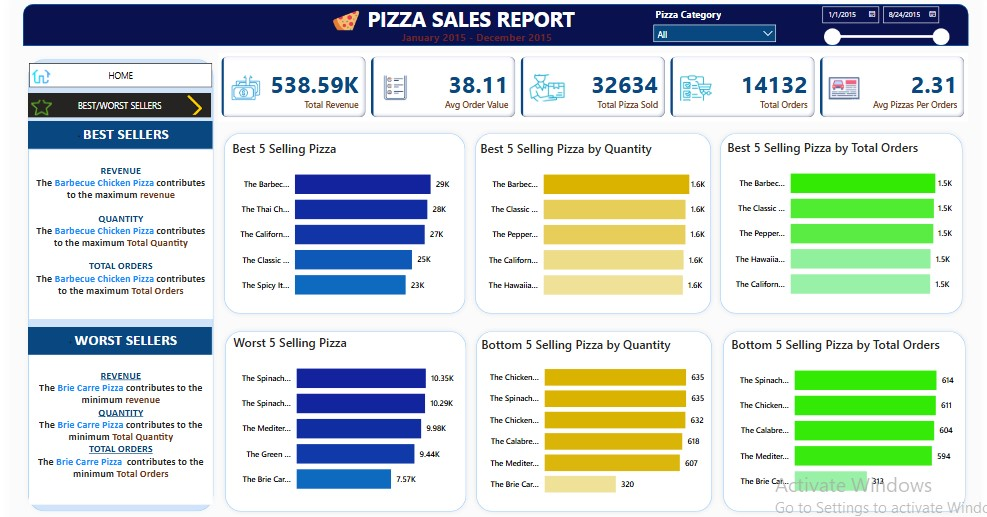

What the dashboard file says about the page in this screenshot:
{"tool":"powerbi","page":{"name":"BEST/WORST SELLERS","canvas":[1500,820],"ordinal":1},"visuals":[{"type":"cardVisual","fields":{"Data":["public pizza_sales.Total Revenue","public pizza_sales.Avg Order Value","public pizza_sales.Total Pizza Sold","public pizza_sales.Total Orders","public pizza_sales.Avg Pizzas Per Orders"]},"box":[320,86,1162.9,105.7],"z":0},{"type":"shape","box":[17.1,10,1465.7,65],"z":1000},{"type":"textbox","box":[545.7,5,407.1,78.6],"z":2000},{"type":"image","box":[482,14,71.4,41],"z":3000},{"type":"textbox","box":[598.6,44.3,302.9,40],"z":4000},{"type":"shape","box":[320.4,202,389.8,295.9],"z":5000},{"type":"shape","box":[16.9,86.2,303.1,716.9],"z":6000},{"type":"textbox","box":[25.6,191.1,285.6,43.3],"z":7000},{"type":"textbox","box":[26.2,235.4,284.6,261.5],"z":8000},{"type":"textbox","box":[25.5,510.5,285.1,42.6],"z":9000},{"type":"textbox","box":[26.2,553.8,284.6,232.3],"z":10000},{"type":"slicer","fields":{"Values":["public pizza_sales.pizza_category"]},"box":[984.6,9.6,209.6,65.4],"z":11000},{"type":"slicer","fields":{"Values":["public pizza_sales.order_date"]},"box":[1243.6,2.6,217.9,78.2],"z":12000},{"type":"shape","box":[710.2,202,381.6,295.9],"z":13000},{"type":"shape","box":[1089.8,202,391.8,295.9],"z":14000},{"type":"shape","box":[322.4,508.2,389.8,295.9],"z":15000},{"type":"shape","box":[712.2,508.2,381.6,295.9],"z":16000},{"type":"shape","box":[1093.9,508.2,391.8,295.9],"z":17000},{"type":"barChart","title":"Best 5 Selling Pizza","fields":{"Category":["public pizza_sales.pizza_name"],"Y":["public pizza_sales.Total Revenue"]},"box":[336.7,220.4,357.1,261.2],"z":18000},{"type":"barChart","title":"Worst 5 Selling Pizza","fields":{"Category":["public pizza_sales.pizza_name"],"Y":["public pizza_sales.Total Revenue"]},"box":[338.5,521.5,358.5,261.5],"z":19000},{"type":"barChart","title":"Best 5 Selling Pizza by Quantity","fields":{"Category":["public pizza_sales.pizza_name"],"Y":["public pizza_sales.Total Pizza Sold"]},"box":[721.5,220,358.5,261.5],"z":20000},{"type":"barChart","title":"Bottom 5 Selling Pizza by Quantity","fields":{"Category":["public pizza_sales.pizza_name"],"Y":["public pizza_sales.Total Pizza Sold"]},"box":[723.1,524.6,358.5,261.5],"z":21000},{"type":"barChart","title":"Best 5 Selling Pizza by Total Orders","fields":{"Category":["public pizza_sales.pizza_name"],"Y":["public pizza_sales.Total Orders"]},"box":[1103.1,218.5,358.5,261.5],"z":22000},{"type":"barChart","title":"Bottom 5 Selling Pizza by Total Orders","fields":{"Category":["public pizza_sales.pizza_name"],"Y":["public pizza_sales.Total Orders"]},"box":[1109.2,524.6,358.5,261.5],"z":23000},{"type":"pageNavigator","box":[26.2,100,284.6,38.5],"z":23001},{"type":"pageNavigator","box":[24.6,147.7,284.6,38.5],"z":23002},{"type":"image","box":[256.9,144.6,52.3,43.1],"z":23003},{"type":"image","box":[26.2,103.1,38.5,38.5],"z":23004},{"type":"image","box":[24.6,149.2,41.5,41.5],"z":23005}]}

Visuals, with their boxes on the page's 1500x820 design canvas (x1, y1, x2, y2). These are canvas units, not pixel positions in the 987x517 screenshot, which may show the page scaled, cropped or inside an application window:
cardVisual - public pizza_sales.Total Revenue x public pizza_sales.Avg Order Value: [x1=320, y1=86, x2=1483, y2=192]
shape: [x1=17, y1=10, x2=1483, y2=75]
textbox: [x1=546, y1=5, x2=953, y2=84]
image: [x1=482, y1=14, x2=553, y2=55]
textbox: [x1=599, y1=44, x2=902, y2=84]
shape: [x1=320, y1=202, x2=710, y2=498]
shape: [x1=17, y1=86, x2=320, y2=803]
textbox: [x1=26, y1=191, x2=311, y2=234]
textbox: [x1=26, y1=235, x2=311, y2=497]
textbox: [x1=26, y1=510, x2=311, y2=553]
textbox: [x1=26, y1=554, x2=311, y2=786]
slicer - public pizza_sales.pizza_category: [x1=985, y1=10, x2=1194, y2=75]
slicer - public pizza_sales.order_date: [x1=1244, y1=3, x2=1462, y2=81]
shape: [x1=710, y1=202, x2=1092, y2=498]
shape: [x1=1090, y1=202, x2=1482, y2=498]
shape: [x1=322, y1=508, x2=712, y2=804]
shape: [x1=712, y1=508, x2=1094, y2=804]
shape: [x1=1094, y1=508, x2=1486, y2=804]
"Best 5 Selling Pizza" barChart: [x1=337, y1=220, x2=694, y2=482]
"Worst 5 Selling Pizza" barChart: [x1=338, y1=522, x2=697, y2=783]
"Best 5 Selling Pizza by Quantity" barChart: [x1=722, y1=220, x2=1080, y2=482]
"Bottom 5 Selling Pizza by Quantity" barChart: [x1=723, y1=525, x2=1082, y2=786]
"Best 5 Selling Pizza by Total Orders" barChart: [x1=1103, y1=218, x2=1462, y2=480]
"Bottom 5 Selling Pizza by Total Orders" barChart: [x1=1109, y1=525, x2=1468, y2=786]
pageNavigator: [x1=26, y1=100, x2=311, y2=138]
pageNavigator: [x1=25, y1=148, x2=309, y2=186]
image: [x1=257, y1=145, x2=309, y2=188]
image: [x1=26, y1=103, x2=65, y2=142]
image: [x1=25, y1=149, x2=66, y2=191]
